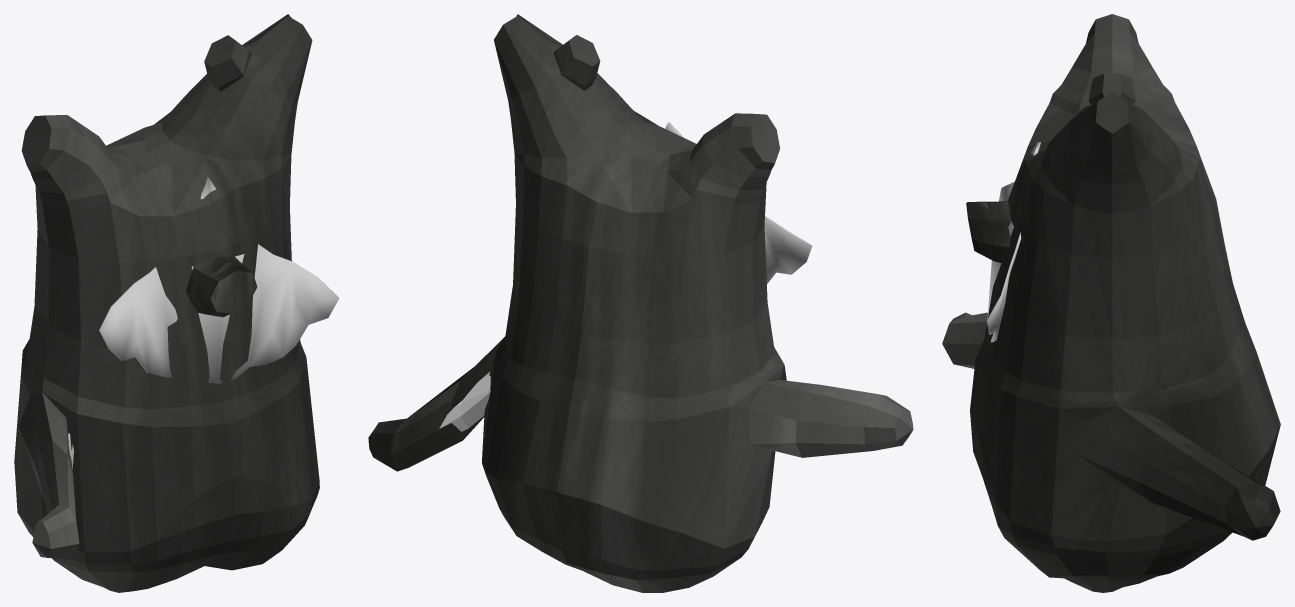
File: frame_0050.obj
The picture shows the model from 3 angles, left to right: view 1: azimuth 30°, elevation 25°; view 2: azimuth 150°, elevation 25°; view 3: azimuth 270°, elevation 25°; orthographic projection.
Parts seen in each view (by area): view 1: korok, leaf, nose; view 2: korok, leaf; view 3: korok, nose, leaf.
Boxes of the visible parts, <box> form: korok: <box>14,14,319,592</box>; leaf: <box>99,177,339,383</box>; nose: <box>186,254,257,317</box>; korok: <box>368,14,913,592</box>; leaf: <box>665,122,812,283</box>; korok: <box>942,14,1280,592</box>; nose: <box>966,200,1011,263</box>; leaf: <box>986,142,1040,342</box>.
Size of the model in its own units: 1.78 by 2.23 by 1.27.
